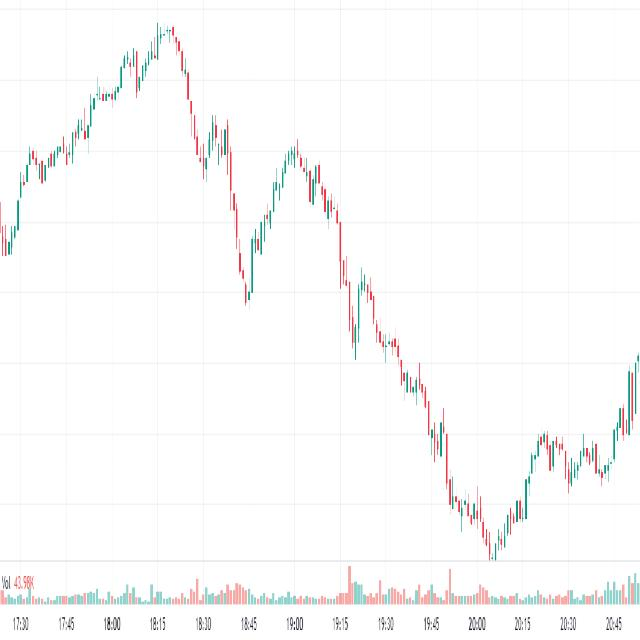Head-Shoulders: (104, 0, 238, 232)
Inverse-Head-Shoulders: (440, 408, 548, 577)
Rounding-Top: (246, 118, 354, 311)
